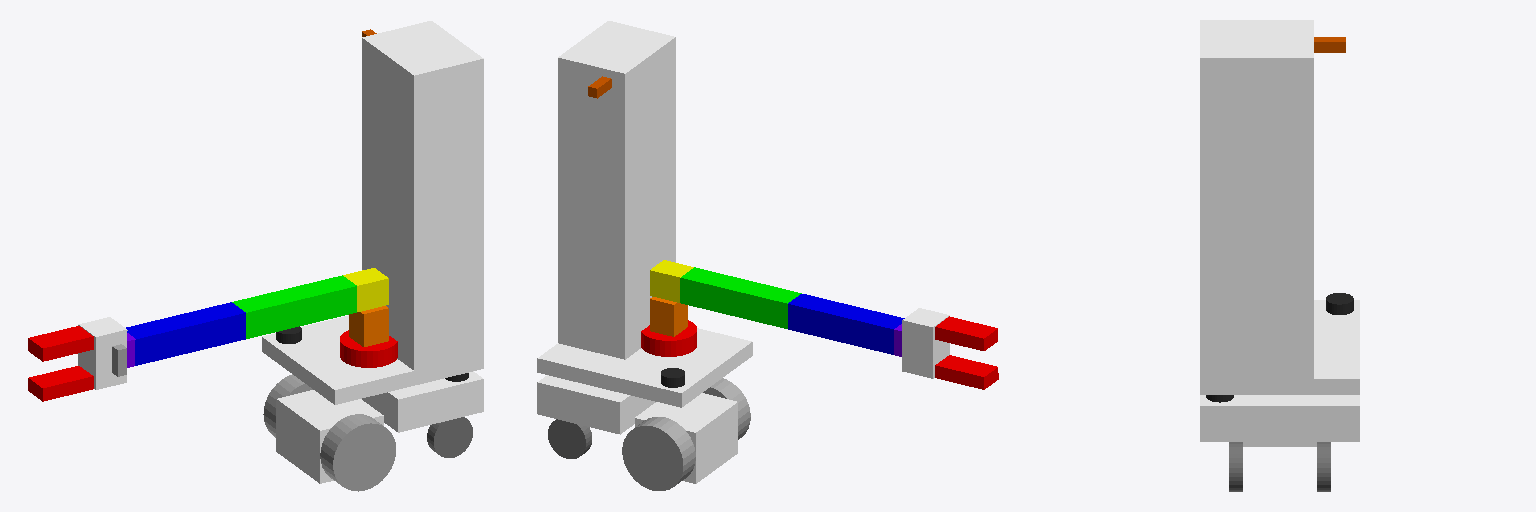
--- Render facts (derived) ---
3 views of the same robot in one strip: view 1: azimuth 30°, elevation 25°; view 2: azimuth 150°, elevation 25°; view 3: azimuth 270°, elevation 25° (orthographic).
Model mbse with 24 links and 23 joints (7 revolute, 4 continuous, 3 prismatic, 9 fixed), rooted at mobilebaseI, posed every joint at zero.
Visible links, largest first — view 1: Torsol, mobilebaseIV, mobilebaseI, Revlink3, Revlink4, Wheel_Left, mobilebaseII, Hand, FingerLeft, FingerRight, CasterWheel_Left, LinearJoint (+3 smaller); view 2: Torsol, mobilebaseIV, Revlink3, mobilebaseI, Revlink4, Wheel_Right, mobilebaseII, Hand, FingerRight, FingerLeft, CasterWheel_Right, LinearJoint (+3 smaller); view 3: Torsol, mobilebaseII, mobilebaseIV, CasterWheel_Left, CasterWheel_Right, Lidar_Front.
Boxes of the visible links, <box> form: Torsol: <box>362,21,483,370</box>; mobilebaseIV: <box>262,315,483,404</box>; mobilebaseI: <box>276,390,383,483</box>; Revlink3: <box>232,275,356,338</box>; Revlink4: <box>126,302,245,365</box>; Wheel_Left: <box>320,414,395,491</box>; mobilebaseII: <box>362,371,483,432</box>; Hand: <box>78,317,127,389</box>; FingerLeft: <box>28,326,93,361</box>; FingerRight: <box>28,366,93,401</box>; CasterWheel_Left: <box>427,417,472,457</box>; LinearJoint: <box>340,330,397,367</box>; Torsol: <box>558,21,675,359</box>; mobilebaseIV: <box>537,328,752,407</box>; Revlink3: <box>680,267,801,328</box>; mobilebaseI: <box>635,393,737,483</box>; Revlink4: <box>788,294,904,354</box>; Wheel_Right: <box>622,417,695,490</box>; mobilebaseII: <box>537,375,655,434</box>; Hand: <box>902,308,949,378</box>; FingerRight: <box>935,355,998,389</box>; FingerLeft: <box>935,316,997,350</box>; CasterWheel_Right: <box>548,419,591,458</box>; LinearJoint: <box>641,320,696,356</box>; Torsol: <box>1200,20,1313,378</box>; mobilebaseII: <box>1200,395,1359,441</box>; mobilebaseIV: <box>1200,300,1359,394</box>; CasterWheel_Left: <box>1229,442,1242,491</box>; CasterWheel_Right: <box>1317,442,1330,491</box>; Lidar_Front: <box>1326,293,1353,314</box>.
Size in the robot's own frame: 1.34 by 0.4 by 1.22 metres.
Geometry: primitives only (box / cylinder / sphere), no mesh files.

robot.urdf — mbse:
<!-- <?xml version="1.0"?> -->


<robot name="mbse">
    
    <link name="mobilebaseI">
        <visual name="mobilebaseI">
            <geometry name = "mobilebaseI">
                <box size="0.200 0.240 0.160"/>
                <origin xyz="0.0 0.0 0.080" rpy="0.0 0.0 0.0"/>
            </geometry>
            <material name="white">
                <color rgba="1.0 1.0 1.0 1.0"/>
            </material>
        </visual>
        <inertial>
            <mass value="2.0"/>
            <inertia ixx="5.0" ixy="0.0" ixz="0.0" 
                     iyy="7.0" iyz="0.0" izz="6.0"/>
        </inertial>
        <collision>
            <origin xyz="0.0 0.0 0.080" rpy="0.0 0.0 0.0"/>
            <geometry name = "mobilebaseI">
                <box size="0.200 0.240 0.160"/>
                
            </geometry>
        </collision>
    </link>

    <link name="mobilebaseII">
        <visual name="mobilebaseII">
            <geometry name = "mobilebaseII">
                <box size="0.270 0.400 0.100"/>
                <origin xyz="0.0 0.0 0.00" rpy="0.0 0.0 0.0"/>
            </geometry>
            <material name="white">
            </material>
        </visual>
        <inertial>
            <mass value="18.0"/>
            <inertia ixx="8.0" ixy="0.0" ixz="0.0" 
                     iyy="2.0" iyz="0.0" izz="1.0"/>
        </inertial>
        <collision>
            <origin xyz="0.0 0.0 0.00" rpy="0.0 0.0 0.0"/>
            <geometry name = "mobilebaseII">
                <box size="0.270 0.400 0.100"/>
                
            </geometry>
        </collision>
    </link>

    <joint name="MobileBaseWheel" type="fixed">
        <origin xyz="0.235 0.0 0.110" rpy="0.0 0.0 0.0"/>
        <parent link="mobilebaseI"/>
        <child link="mobilebaseII"/>
    </joint>

    <link name="Wheel_Right">
        <inertial>
            <mass value="1.5"/>
            <inertia ixx="8.0" ixy="0.0" ixz="0.0" 
                     iyy="4.0" iyz="0.0" izz="4.0"/>
        </inertial>
        <visual name="Wheel">
            <origin xyz="0.0 0.0 0.0" rpy="0.0 0.0 0.0"/>
            <geometry name = "wheel">
                <cylinder radius="0.100" length="0.070"/>
            </geometry>
            <material name="Gray1">
                <color rgba="0.7 0.7 0.7 1.0"/>
            </material>
        </visual>
        <collision>
            <origin xyz="0.0 0.0 0.0" rpy="0.0 0.0 0.0"/>
            <geometry name = "wheel">
                <cylinder radius="0.100" length="0.070"/>
                
            </geometry>
        </collision>
    </link>

    <joint name="WheelR" type="continuous">
        <origin xyz="0.0 0.155 0.005" rpy="1.57 0.0 0.0"/>
        <parent link="mobilebaseI"/>
        <child link="Wheel_Right"/>
        <axis xyz="0.0 0.0 1.0"/>
        <limit effort="1000.0" velocity="10.0"/>
    </joint>

    <link name="Wheel_Left">
        <inertial>
            <mass value="1.5"/>
            <inertia ixx="8.0" ixy="0.0" ixz="0.0" 
                     iyy="4.0" iyz="0.0" izz="4.0"/>
        </inertial>
        <visual name="Wheel">
            <origin xyz="0.0 0.0 0.0" rpy="0.0 0.0 0.0"/>
            <geometry name = "wheel">
                <cylinder radius="0.100" length="0.070"/>
            </geometry>
            <material name="Gray1">
                <color rgba="0.7 0.7 0.7 1.0"/>
            </material>
        </visual>
        <collision>
            <origin xyz="0.0 0.0 0.0" rpy="0.0 0.0 0.0"/>
            <geometry name = "wheel">
                <cylinder radius="0.100" length="0.070"/>
                
            </geometry>
        </collision>
    </link>

    <joint name="WheelL" type="continuous">
        <origin xyz="0.0 -0.155 0.005" rpy="1.57 0.0 0.0"/>
        <parent link="mobilebaseI"/>
        <child link="Wheel_Left"/>
        <axis xyz="0.0 0.0 1.0"/>
        <limit effort="1000.0" velocity="10.0"/>
    </joint>

    <link name="CasterCase_Left">
        <inertial>
            <mass value="0.06"/>
            <inertia ixx="0.2" ixy="0.0" ixz="0.0" 
                     iyy="0.6" iyz="-0.7" izz="0.2"/>
        </inertial>
        <visual name="CasterCase">
            <origin xyz="0.0 0.0 -0.005" rpy="0.0 0.0 0.0"/>
            <geometry name = "CasterC">
                <cylinder radius="0.025" length="0.010"/>
            </geometry>
            <material name="Gray1">
                <color rgba="0.7 0.7 0.7 1.0"/>
            </material>
        </visual>
        <collision>
            <origin xyz="0.0 0.0 -0.005" rpy="0.0 0.0 0.0"/>
            <geometry name = "CasterC">
                <cylinder radius="0.025" length="0.010"/>
                
            </geometry>
        </collision>
    </link>

    <joint name="CasterCL" type="fixed">
        <origin xyz="0.040 -0.110 -0.05" rpy="0.0 0.0 0.0"/>
        <parent link="mobilebaseII"/>
        <child link="CasterCase_Left"/>
        <axis xyz="0.0 0.0 1.0"/>
    </joint>

    <link name="CasterWheel_Left">
        <inertial>
            <mass value="0.3"/>
            <inertia ixx="0.6" ixy="0.0" ixz="0.0" 
                     iyy="0.3" iyz="0.0" izz="0.3"/>
        </inertial>
        <visual name="CasterWheel">
            <origin xyz="0.0 0.0 0.0" rpy="0.0 0.0 0.0"/>
            <geometry name = "Casterwheel">
                <cylinder radius="0.0625" length="0.036"/>
            </geometry>
            <material name="Gray2">
                <color rgba="0.5 0.5 0.5 1.0"/>
            </material>
        </visual>
        <collision>
            <origin xyz="0.0 0.0 0.0" rpy="0.0 0.0 0.0"/>
            <geometry name = "Casterwheel">
                <cylinder radius="0.0625" length="0.036"/>
                
            </geometry>
        </collision>
    </link>

    <joint name="CasterWheelL" type="continuous">
        <origin xyz="0.0405 0.0 -0.0925" rpy="1.57 0.0 0.0"/>
        <parent link="CasterCase_Left"/>
        <child link="CasterWheel_Left"/>
        <axis xyz="0.0 0.0 1.0"/>
    </joint>

    <link name="CasterCase_Right">
        <inertial>
            <mass value="0.06"/>
            <inertia ixx="0.2" ixy="0.0" ixz="0.0" 
                     iyy="0.6" iyz="-0.7" izz="0.2"/>
        </inertial>
        <visual name="CasterCase">
            <origin xyz="0.0 0.0 -0.005" rpy="0.0 0.0 0.0"/>
            <geometry name = "CasterC">
                <cylinder radius="0.025" length="0.010"/>
            </geometry>
            <material name="Gray1">
                <color rgba="0.7 0.7 0.7 1.0"/>
            </material>
        </visual>
        <collision>
            <origin xyz="0.0 0.0 -0.005" rpy="0.0 0.0 0.0"/>
            <geometry name = "CasterC">
                <cylinder radius="0.025" length="0.010"/>
                
            </geometry>
        </collision>
    </link>

    <joint name="CasterCR" type="fixed">
        <origin xyz="0.040 0.110 -0.05" rpy="0.0 0.0 0.0"/>
        <parent link="mobilebaseII"/>
        <child link="CasterCase_Right"/>
        <axis xyz="1.0 0.0 0.0"/>
    </joint>

    <link name="CasterWheel_Right">
        <inertial>
            <mass value="0.3"/>
            <inertia ixx="0.6" ixy="0.0" ixz="0.0" 
                     iyy="0.3" iyz="0.0" izz="0.3"/>
        </inertial>
        <visual name="CasterWheel">
            <origin xyz="0.0 0.0 0.0" rpy="0.0 0.0 0.0"/>
            <geometry name = "Casterwheel">
                <cylinder radius="0.0625" length="0.036"/>
            </geometry>
            <material name="Gray2">
                <color rgba="0.5 0.5 0.5 1.0"/>
            </material>
        </visual>
        <collision>
            <origin xyz="0.0 0.0 0.0" rpy="0.0 0.0 0.0"/>
            <geometry name = "Casterwheel">
                <cylinder radius="0.0625" length="0.036"/>
                 
            </geometry>
        </collision>
    </link>

    <joint name="CasterWheelR" type="continuous">
        <origin xyz="0.0405 0.0 -0.0925" rpy="1.57 0.0 0.0"/>
        <parent link="CasterCase_Right"/>
        <child link="CasterWheel_Right"/>
        <axis xyz="0.0 0.0 1.0"/>
    </joint>

    <link name="mobilebaseIII">
        <inertial>
            <mass value="10.0"/>
            <inertia ixx="0.6" ixy="0.0" ixz="0.0" 
                     iyy="0.1" iyz="0.0" izz="0.4"/>
        </inertial>
        <visual name = "mobilebaseIII">
            <origin xyz="0.0 0.0 0.0" rpy="0.0 0.0 0.0"/>
            <geometry name = "mobilebaseIII">
                <box size="0.235 0.180 0.030"/>
            </geometry >
            <material name="white"></material>
        </visual>
        <collision>
            <origin xyz="0.0 0.0 0.0" rpy="0.0 0.0 0.0"/>
            <geometry name = "mobilebaseIII">
                <box size="0.235 0.180 0.030"/>
                
            </geometry >
        </collision>
    </link>

    <joint name="MobileBaseLidar" type="fixed">     
        <origin xyz="-0.100 0.0 0.065" rpy="0.0 0.0 0.0"/>
        <parent link="mobilebaseII"/>
        <child link="mobilebaseIII"/>
        <axis xyz="0.0 0.0 1.0"/>
    </joint>

    <link name="mobilebaseIV">
        <inertial>
            <mass value="1.0"/>
            <inertia ixx="0.2" ixy="0.0" ixz="0.0" 
                     iyy="0.3" iyz="0.0" izz="0.1"/>
        </inertial>
        <visual name = "mobilebaseIII">
            <origin xyz="0.0 0.0 0.0" rpy="0.0 0.0 0.0"/>
            <geometry name = "mobilebaseIV">
                <box size="0.470 0.400 0.045"/>
            </geometry >
            <material name="white"></material>
        </visual>
        <collision>
            <origin xyz="0.0 0.0 0.0" rpy="0.0 0.0 0.0"/>
            <geometry name = "mobilebaseIV">
                <box size="0.470 0.400 0.045"/>
                
            </geometry >
        </collision>
    </link>

    <joint name="MobileBaseTorsol" type="fixed">
        <origin xyz="0.0 0.0 0.0375" rpy="0.0 0.0 0.0"/>
        <parent link="mobilebaseIII"/>
        <child link="mobilebaseIV"/>
    </joint>

    <link name="Lidar_Front">
        <inertial>
            <mass value="0.3"/>
            <inertia ixx="0.4" ixy="0.0" ixz="0.0" 
                     iyy="0.7" iyz="0.0" izz="0.4"/>
        </inertial>
        <visual name="Lidar_Front">
            <origin xyz="0.0 0.0 0.0" rpy="0.0 0.0 0.0"/>
            <geometry name = "Lidar_front">
                <cylinder radius="0.035" length="0.030"/>
            </geometry>
            <material name="Gray4">
                <color rgba="0.2 0.2 0.2 1.0"/>
            </material>
        </visual>
        <collision>
            <geometry name = "Lidar_front">
                <origin xyz="0.0 0.0 0.0" rpy="0.0 0.0 0.0"/>
                <cylinder radius="0.035" length="0.030"/>
                
            </geometry>
        </collision>
    </link>

    <joint name="LidarF" type="fixed">
        <origin xyz="-0.178 0.150 0.075" rpy="0.0 0.0 0.0"/>
        <parent link="mobilebaseIII"/>
        <child link="Lidar_Front"/>
        <axis xyz="1.0 0.0 0.0"/>
    </joint>

    <link name="Lidar_Back">
        <inertial>
            <mass value="0.3"/>
            <inertia ixx="0.4" ixy="0.0" ixz="0.0" 
                     iyy="0.7" iyz="0.0" izz="0.4"/>
        </inertial>
        <visual name="Lidar_Back">
            <origin xyz="0.0 0.0 0.0" rpy="0.0 0.0 0.0"/>
            <geometry name = "Lidar_back">
                <cylinder radius="0.035" length="0.030"/>
            </geometry>
            <material name="Gray4">
                <color rgba="0.2 0.2 0.2 1.0"/>
            </material>
        </visual>
        <collision>
            <origin xyz="0.0 0.0 0.0" rpy="0.0 0.0 0.0"/>
            <geometry name = "Lidar_back">
                <cylinder radius="0.035" length="0.030"/>
                
            </geometry>
        </collision>
    </link>

    <joint name="LidarB" type="fixed">
        <origin xyz="0.178 -0.150 0.0" rpy="0.0 0.0 0.0"/>
        <parent link="mobilebaseIII"/>
        <child link="Lidar_Back"/>
      
    </joint>

    <link name="Torsol">
        <inertial>
            <mass value="0.8"/>
            <inertia ixx="7.0" ixy="5.0" ixz="8.0" 
                     iyy="4.0" iyz="4.0" izz="7.0"/>
        </inertial>
        <visual name="Body">
            <origin xyz="0.0 0.0 0.445" rpy="0.0 0.0 0.0"/>
            <geometry name = "body">
                <box size="0.220 0.285 0.890"/>
            </geometry>
            <material name="white"></material>
        </visual>
        <collision>
            <origin xyz="0.125 0.0 0.445" rpy="0.0 0.0 0.0"/>
            <geometry name = "body">
                <box size="0.220 0.285 0.890"/>
                
            </geometry>
        </collision>
    </link>

    <joint name="BaseTorsol" type="fixed">
        <origin xyz="0.125 -0.0575 0.0225" rpy="0.0 0.0 0.0"/>
        <parent link="mobilebaseIV"/>
        <child link="Torsol"/>
    </joint>

    <link name="TorsolCamera">
        <inertial>
            <origin xyz="0.0 1.0 0.0" rpy="0.0 0.0 0.0"/>
            <mass value="0.2"/>
            <inertia ixx="0.6" ixy="0.0" ixz="0.0" 
                     iyy="0.1" iyz="0.0" izz="0.1"/>
        </inertial>
        <visual>
            <origin xyz="0.0 0.0 0.0" rpy="0.0 0.0 0.0"/>
            <geometry name = "Camera">
                <box size="0.03 0.08 0.03"/>
            </geometry>
            <material name="black"></material>
        </visual>
        <collision>
            <origin xyz="0.0 0.0 0.0" rpy="0.0 0.0 0.0"/>
            <geometry name = "Camera">
                <box size="0.03 0.08 0.03"/>
            </geometry>
        </collision>
    </link>

    <joint name="BodyCam" type="revolute">
        <origin xyz="-0.05 0.182 0.85" rpy="0.0 0.0 0.0"/>
        <parent link="Torsol"/>
        <child link="TorsolCamera"/>
        <axis xyz="0.0 1.0 0.0"/>
        <limit effort="1000.0" lower="-1.5" upper="1.5" velocity="0.5"/>
       
    </joint>



    <link name="LinearJoint">
        <inertial>
            <mass value="0.5"/>
            <inertia ixx="7.0" ixy="-5.0" ixz="8.0" 
                     iyy="4.0" iyz="4.0" izz="7.0"/>
        </inertial>
        <visual>
            <origin xyz="0.0 0.0 0.0" rpy="0.0 0.0 0.0"/>
            <geometry name = "LinearJ">
                <cylinder radius="0.080" length="0.050"/>
            </geometry>
            <material name="Red">
                <color rgba="1.0 0.0 0.0 1.0"/>
            </material>
        </visual>
        <collision>
            <origin xyz="0.0 0.0 0.0" rpy="0.0 0.0 0.0"/>
            <geometry name = "LinearJ">
                <cylinder radius="0.080" length="0.050"/>
                
            </geometry>
        </collision>
    </link>

    <joint name="LinJ" type="prismatic">
        <origin xyz="-0.17 0.0 0.0275" rpy="0.0 0.0 0.0"/>
        <parent link="Torsol"/>
        <child link="LinearJoint"/>
        <axis xyz="0.0 0.0 1.0"/>
        <limit lower="0.0" upper="0.650" effort="1000.0" velocity="10.0"/>
    </joint>

    <link name="Revlink1">
        <inertial>
            <mass value="0.1"/>
            <inertia ixx="0.4" ixy="0.0" ixz="0.0" 
                     iyy="0.4" iyz="0.7" izz="0.1"/>
        </inertial>
        <visual >
            <origin xyz="0.0 0.0 -0.050" rpy="0.0 0.0 0.0"/>
            <geometry name="RevL1">
                <box size="0.080 0.080 0.100"/>
            </geometry>
            <material name="Orange">
                <color rgba="1.0 0.5 0.0 1.0"/>
            </material>
        </visual>
        <collision>
            <origin xyz="0.0 0.0 -0.050" rpy="0.0 0.0 0.0"/>
            <geometry name="RevL1">
                <box size="0.080 0.080 0.100"/>
               
            </geometry>
        </collision>
    </link>

    <joint name="RevJ1" type="revolute">
        <origin xyz="0.0 0.0 0.125" rpy="0.0 0.0 3.14"/>
        <parent link="LinearJoint"/>
        <child link="Revlink1"/>
        <axis xyz="0.0 0.0 1.0"/>
        <limit effort="1000.0" lower="-1.3" upper="1.3" velocity="0.5"/>
        
    </joint>

    <link name="Revlink2">
        <inertial>
            <mass value="0.1"/>
            <inertia ixx="0.9" ixy="0.0" ixz="0.0" 
                     iyy="0.4" iyz="0.0" izz="0.9"/>
        </inertial>
        <visual >
            <origin xyz="0.0 0.0 -0.050" rpy="0.0 0.0 0.0"/>
            <geometry name="RevL2">
                <box size="0.080 0.080 0.100"/>
            </geometry>
            <material name="Yellow">
                <color rgba="1.0 1.0 0.0 1.0"/>
            </material>
        </visual>
        <collision>
            <origin xyz="0.0 0.0 -0.050" rpy="0.0 0.0 0.0"/>
            <geometry name="RevL2">
                <box size="0.080 0.080 0.100"/>
                
            </geometry>
        </collision>
    </link>

    <joint name="RevJ2" type="revolute">
        <origin xyz="0.06 0.0 0.05" rpy="0.0 1.57 0.0"/>
        <parent link="Revlink1"/>
        <child link="Revlink2"/>
        <axis xyz="0.0 0.0 1.0"/>
        <limit effort="1000.0" lower="-1.5" upper="1.5" velocity="0.5"/>
       
    </joint>

    <link name="Revlink3">
        <inertial>
            <mass value="0.1"/>
            <inertia ixx="0.9" ixy="0.0" ixz="0.0" 
                     iyy="0.1" iyz="0.5" izz="0.8"/>
        </inertial>
        <visual >
            <origin xyz="-0.175 0.0 0.0" rpy="0.0 1.57 0.0"/>
            <geometry name="RevL3">
                <box size="0.080 0.080 0.350"/>
            </geometry>
            <material name="Green">
                <color rgba="0.0 1.0 0.0 1.0"/>
            </material>
        </visual>
        <collision>
            <geometry name="RevL3">
                <origin xyz="-0.175 0.0 0.0" rpy="0.0 1.57 0.0"/>
                <box size="0.080 0.080 0.350"/>
                
            </geometry>
        </collision>
    </link>

    <joint name="RevJ3" type="revolute">
        <origin xyz="0.0 0.0 0.0" rpy="1.57 1.57 0.0"/>
        <parent link="Revlink2"/>
        <child link="Revlink3"/>
        <axis xyz="0.0 0.0 1.0"/>
        <limit effort="1000.0" lower="-1.2" upper="2.0" velocity="0.5"/>
      
    </joint>

    <link name="Revlink4">
        <inertial>
            <mass value="0.1"/>
            <inertia ixx="0.9" ixy="0.0" ixz="0.0" 
                     iyy="0.1" iyz="0.5" izz="0.8"/>
        </inertial>
        <visual >
            <origin xyz="-0.175 0.0 0.0" rpy="0.0 1.57 0.0"/>
            <geometry name="RevL4">
                <box size="0.080 0.080 0.350"/>
            </geometry>
            <material name="Blue">
                <color rgba="0.0 0.0 1.0 1.0"/>
            </material>
        </visual>
        <collision>
            <origin xyz="-0.175 0.0 0.0" rpy="0.0 1.57 0.0"/>
            <geometry name="RevL4">
                <box size="0.080 0.080 0.350"/>
                
            </geometry>
        </collision>
    </link>

    <joint name="RevJ4" type="revolute">
        <origin xyz="-0.350 0.0 0.0" rpy="0.0 0.0 0.0"/>
        <parent link="Revlink3"/>
        <child link="Revlink4"/>
        <axis xyz="0.0 0.0 1.0"/>
        <limit effort="1000.0" lower="-1.9" upper="1.9" velocity="0.5"/>
      
    </joint>

    <link name="Revlink5">
        <inertial>
            <mass value="0.1"/>
            <inertia ixx="0.1" ixy="0.0" ixz="0.0" 
                     iyy="0.1" iyz="0.0" izz="0.1"/>
        </inertial>
        <visual >
            <origin xyz="-0.04 0.0 0.0" rpy="0.0 1.57 0.0"/>
            <geometry name="RevL5">
                <box size="0.080 0.080 0.050"/>
            </geometry>
            <material name="Purple">
                <color rgba="0.5 0.0 1.0 1.0"/>
            </material>
        </visual>
        <collision>
            <origin xyz="-0.175 0.0 0.0" rpy="0.0 0.0 0.0"/>
            <geometry name="RevL5">
                <box size="0.080 0.080 0.050"/>
                
            </geometry>
        </collision>
    </link>

    <joint name="RevJ5" type="revolute">
        <origin xyz="-0.331 0.0 -0.0" rpy="0.0 0.0 0.0"/>
        <parent link="Revlink4"/>
        <child link="Revlink5"/>
        <axis xyz="0.0 0.0 1.0"/>
        <limit effort="1000.0" lower="-3.14" upper="3.14" velocity="0.5"/>
    </joint>

    <link name="Hand">
        <inertial>
            <mass value="0.05"/>
            <inertia ixx="0.4" ixy="0.0" ixz="0.0" 
                     iyy="0.4" iyz="0.0" izz="0.4"/>
        </inertial>
        <visual >
            <origin xyz="-0.0 0.0 0.0475" rpy="0.0 1.57 0.0"/>
            <geometry name="Hand">
                <box size="0.100 0.160 0.095"/>
            </geometry>
            <material name="white"></material>
        </visual>
        <collision>
            <origin xyz="-0.0 0.08 0.0" rpy="0.0 1.57 0.0"/>
            <geometry name="Hand">
                <box size="0.100 0.160 0.095"/>
                
            </geometry>
        </collision>
    </link>

    <joint name="HandGripper" type="revolute">
        <origin xyz="-0.05 -0.0 -0.0" rpy="0.0 -1.57 0.0"/>
        <parent link="Revlink5"/>
        <child link="Hand"/>
        <axis xyz="0.0 0.0 1.0"/>
        <limit effort="1000.0" lower="-3.14" upper="3.14" velocity="0.5"/>
        
    </joint>

    <link name="FingerLeft">
        <inertial>
            <mass value="0.05"/>
            <inertia ixx="0.5" ixy="0.0" ixz="0.0" 
                     iyy="0.4" iyz="0.0" izz="0.5"/>
        </inertial>
        <visual>
            <origin xyz = "-0.080 0.0 0.0" rpy="0.0 0.0 0.0"/>
            <geometry name="FingerL">
                <box size="0.160 0.040 0.080"/>
            </geometry>
            <material name="Red"></material>
        </visual>
        <collision>
            <origin xyz = "-0.080 0.0 0.0" rpy="0.0 0.0 0.0"/>
            <geometry name="FingerL">
                <box size="0.160 0.040 0.080"/>
                
            </geometry>
        </collision>
    </link>

    <joint name="FingerL" type="prismatic">
        <origin xyz="-0.0 -0.06 0.1" rpy="0.0 1.57 0.0"/>
        <parent link="Hand"/>
        <child link="FingerLeft"/>
        <axis xyz="0.0 0.1 0.0"/>
        <limit effort="1000.0" lower="-0.02" upper="0.1" velocity="0.5"/>
    </joint>

    <link name="FingerRight">
        <inertial>
            <mass value="0.05"/>
            <inertia ixx="0.5" ixy="0.0" ixz="0.0" 
                     iyy="0.4" iyz="0.0" izz="0.5"/>
        </inertial>
        <visual>
            <origin xyz = "-0.080 0.0 0.0" rpy="0.0 0.0 0.0"/>
            <geometry name="FingerR">
                <box size="0.160 0.040 0.080"/>
            </geometry>
            <material name="Red"></material>
        </visual>
        <collision>
            <origin xyz = "-0.080 0.0 0.0" rpy="0.0 0.0 0.0"/>
            <geometry name="FingerR">
                <box size="0.160 0.040 0.080"/>
                
            </geometry>
        </collision>
    </link>

    <joint name="FingerR" type="prismatic">
        <origin xyz="-0.0 0.06 0.1" rpy="0.0 1.57 0.0"/>
        <parent link="Hand"/>
        <child link="FingerRight"/>
        <axis xyz="0.0 1.0 0.0"/>
        <limit effort="1000.0" lower="-0.1" upper="0.02" velocity="0.5"/>
    </joint>

    <link name="HandCamera">
        <inertial>
            <mass value="0.2"/>
            <inertia ixx="0.6" ixy="0.0" ixz="0.0" 
                     iyy="0.1" iyz="0.0" izz="0.1"/>
        </inertial>
        <visual name="Camera">
            <origin xyz="0.0 0.0 0.0" rpy="0.0 0.0 0.0"/>
            <geometry name = "Camera">
                <box size="0.03 0.08 0.03"/>
            </geometry>
            <material name="black"></material>
        </visual>
        <collision>
            <origin xyz="0.0 0.0 0.0" rpy="0.0 0.0 0.0"/>
            <geometry name = "Camera">
                <box size="0.03 0.08 0.03"/>
                
            </geometry>
        </collision>
    </link>

    <joint name="HandCam" type="fixed">
        <origin xyz="-0.0625 0.0 0.03" rpy="0.0 0.0 0.0"/>
        <parent link="Hand"/>
        <child link="HandCamera"/>
    </joint> 

</robot>
